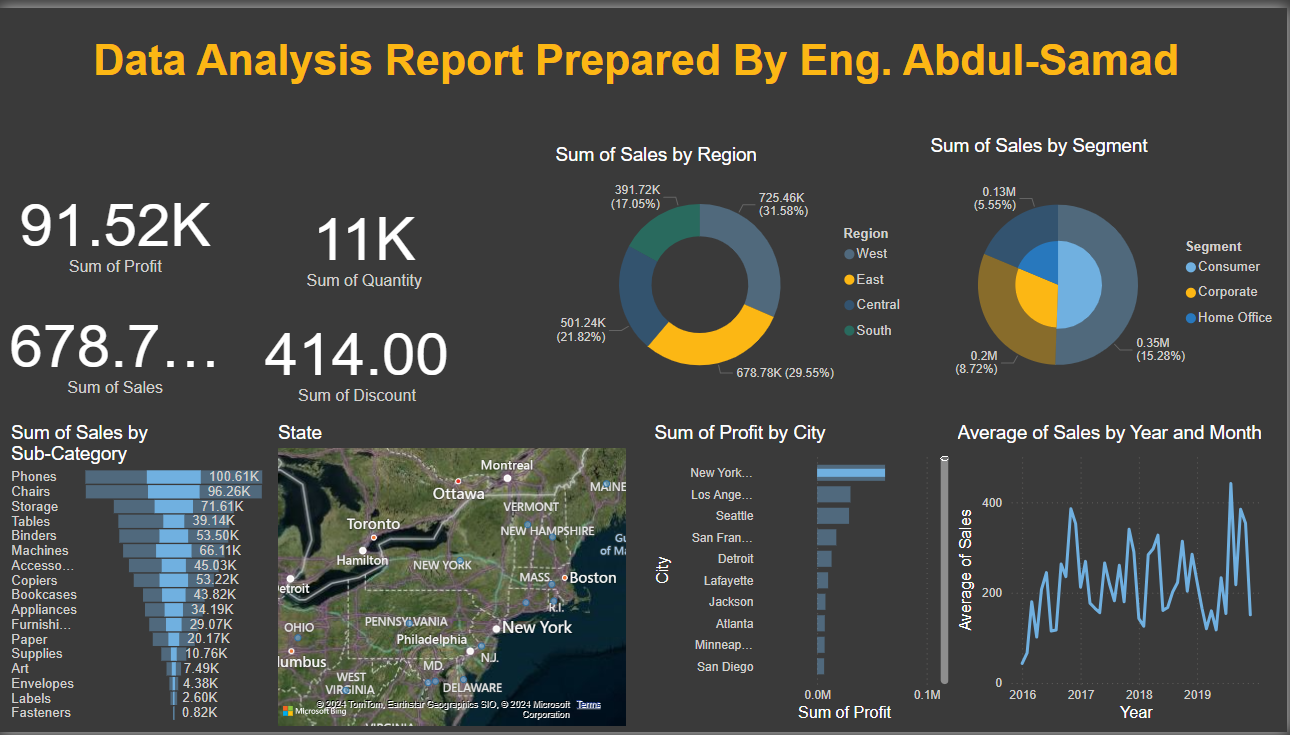

The page's visual inventory and layout, read from the dashboard file:
{"tool":"powerbi","page":{"name":"01_report","canvas":[1280,720],"ordinal":0},"visuals":[{"type":"donutChart","fields":{"Category":["Orders.Region"],"Y":["Sum(Orders.Sales)"]},"box":[547.9,136.1,362.4,257.6],"z":0},{"type":"funnel","fields":{"Category":["Orders.Sub-Category"],"Y":["Sum(Orders.Sales)"]},"box":[6.3,412.7,264.6,302.4],"z":1000},{"type":"clusteredBarChart","fields":{"Category":["Orders.City"],"Y":["Sum(Orders.Profit)"]},"box":[645.8,412.7,302.4,302.4],"z":2000},{"type":"map","fields":{"Category":["Orders.State"]},"box":[270.9,412.7,356,307.1],"z":3000},{"type":"pieChart","fields":{"Category":["Orders.Segment"],"Y":["Sum(Orders.Sales)"]},"box":[921.4,127.6,359.1,275.6],"z":4000},{"type":"lineChart","fields":{"Category":["Orders.Order Date.Variation.Date Hierarchy.Year","Orders.Order Date.Variation.Date Hierarchy.Month"],"Y":["Avg(Orders.Sales)"]},"box":[948.2,412.7,315,302.4],"z":5000},{"type":"card","fields":{"Values":["Sum(Orders.Profit)"]},"box":[0.6,165.2,228.5,107.7],"z":6000},{"type":"card","fields":{"Values":["Sum(Orders.Quantity)"]},"box":[275.7,181.2,171.8,106.3],"z":7000},{"type":"card","fields":{"Values":["Sum(Orders.Discount)"]},"box":[251,287.5,208.1,119.4],"z":8000},{"type":"card","fields":{"Values":["Sum(Orders.Sales)"]},"box":[0.6,272.9,228.5,133.9],"z":9000},{"type":"textbox","box":[3.2,22.1,1260.1,105.5],"z":10000}]}

Visuals, with their boxes in screenshot pixels (x1, y1, x2, y2), scaled from the page's 1280x720 canvas onto the 1290x735 screenshot:
donutChart - Orders.Region x Sum(Orders.Sales): left=552, top=139, right=917, bottom=402
funnel - Orders.Sub-Category x Sum(Orders.Sales): left=6, top=421, right=273, bottom=730
clusteredBarChart - Orders.City x Sum(Orders.Profit): left=651, top=421, right=956, bottom=730
map - Orders.State: left=273, top=421, right=632, bottom=734
pieChart - Orders.Segment x Sum(Orders.Sales): left=929, top=130, right=1289, bottom=412
lineChart - Orders.Order Date.Variation.Date Hierarchy.Year x Orders.Order Date.Variation.Date Hierarchy.Month: left=956, top=421, right=1273, bottom=730
card - Sum(Orders.Profit): left=1, top=169, right=231, bottom=279
card - Sum(Orders.Quantity): left=278, top=185, right=451, bottom=293
card - Sum(Orders.Discount): left=253, top=293, right=463, bottom=415
card - Sum(Orders.Sales): left=1, top=279, right=231, bottom=415
textbox: left=3, top=23, right=1273, bottom=130
